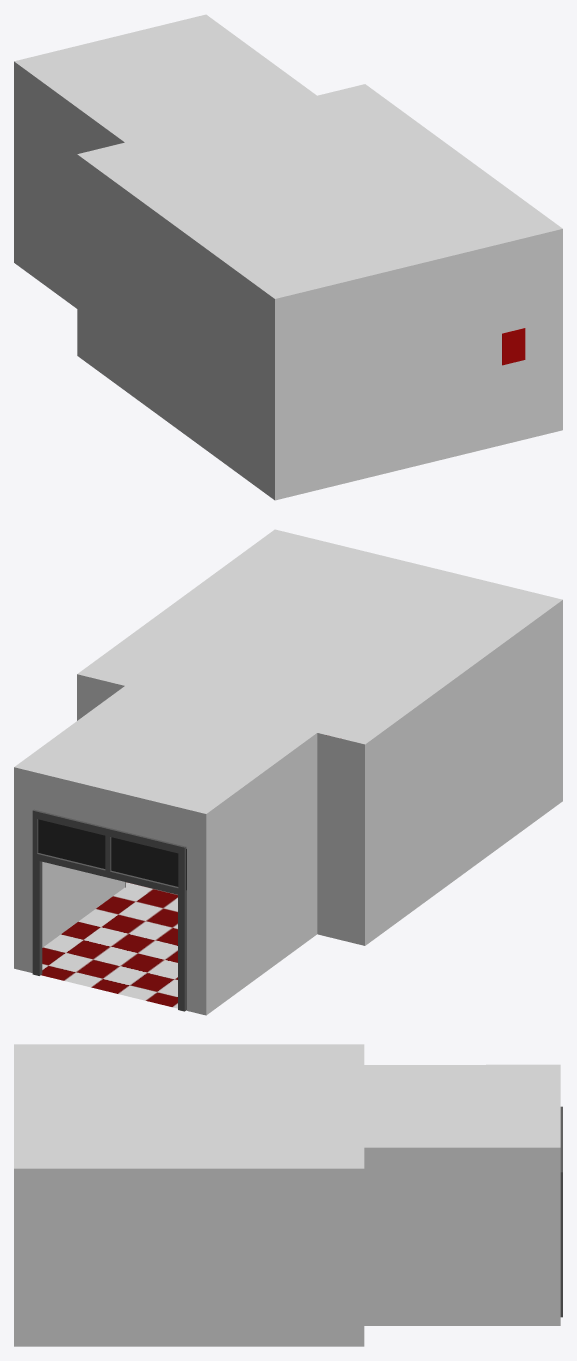
The model's file is restaurant-fixed.fbx.
3 renders of one model, top to bottom at view 1: azimuth 30°, elevation 25°; view 2: azimuth 150°, elevation 25°; view 3: azimuth 270°, elevation 25°, orthographic. The views are drawn at different scales.
Visible parts, largest first — view 1: Plane, Cube.006; view 2: Plane, Plane.001, Cube.008; view 3: Plane, Cube.008.
Part boxes in pixels (x1=…): Plane: x1=14, y1=14, x2=562, y2=500; Cube.006: x1=502, y1=328, x2=525, y2=365; Plane: x1=14, y1=529, x2=562, y2=1015; Plane.001: x1=14, y1=767, x2=206, y2=1015; Cube.008: x1=32, y1=809, x2=186, y2=1011; Plane: x1=14, y1=1044, x2=560, y2=1346; Cube.008: x1=560, y1=1106, x2=562, y2=1317.
Bounding box in the file's own units: 600 × 402 × 1119.
